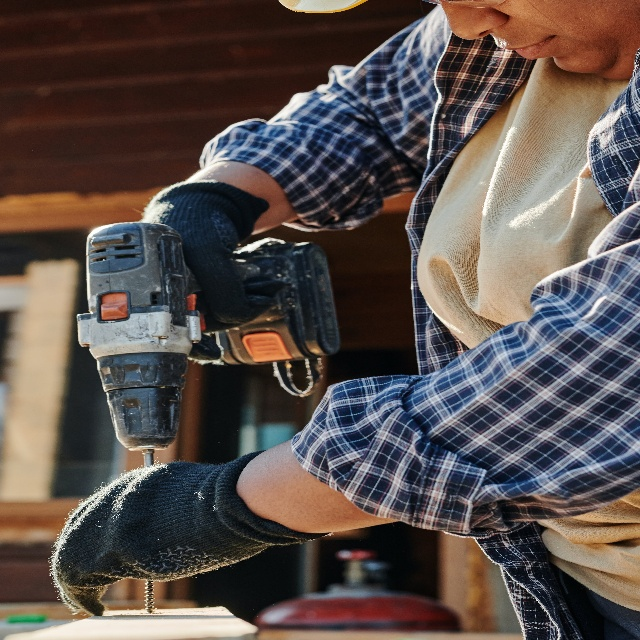Guantes: (51, 451, 321, 617), (139, 187, 271, 364)
